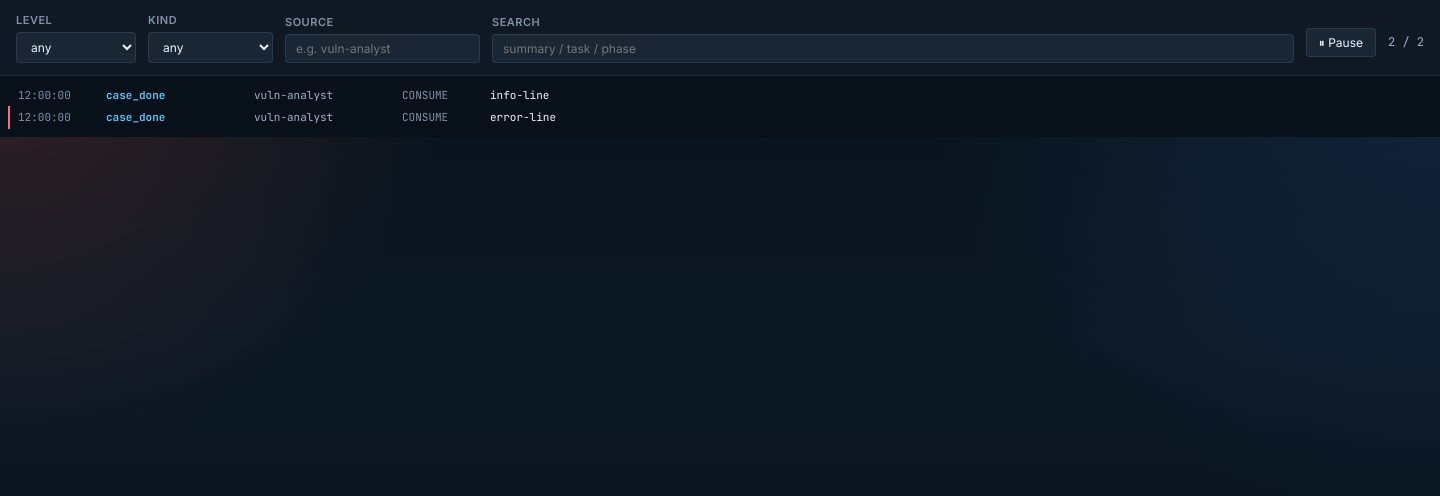
EventsTab › filters by level
Check: the text "info-line" is shown, box [490,88,549,102]
Select "error" in the dropdown labelled "Level": (76, 47) [16,32,136,62]
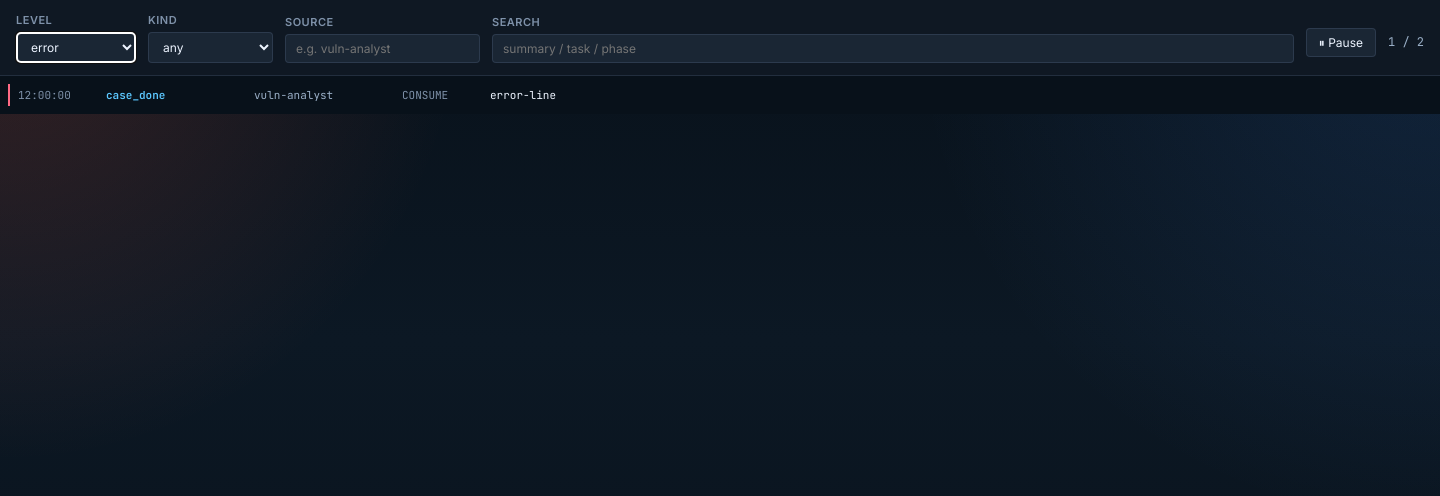
Check: the text "error-line" is shown, box [490,88,556,102]
Check: the text "info-line" is gone
